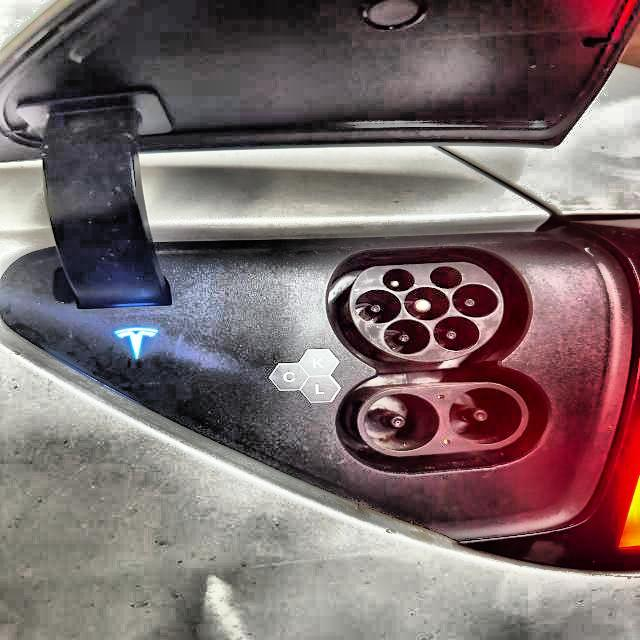inlet: (350, 262, 504, 362)
inlet-above-left: (382, 269, 415, 292)
inlet-above-right: (430, 266, 462, 289)
inlet-below-left: (384, 319, 430, 355)
inlet-below-right: (433, 316, 480, 351)
inlet-center: (404, 286, 451, 321)
inlet-center-left: (355, 289, 402, 324)
inlet-center-right: (451, 283, 499, 318)
